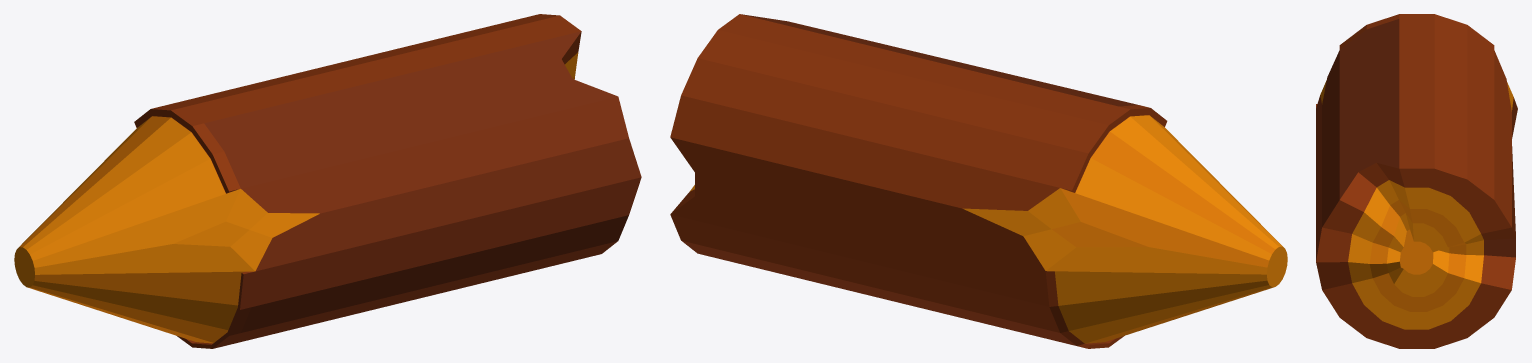
Rendered from Broken log_4.fbx.
The picture shows the model from 3 angles, left to right: view 1: azimuth 30°, elevation 25°; view 2: azimuth 150°, elevation 25°; view 3: azimuth 270°, elevation 25°; orthographic projection. The views are drawn at different scales.
Visible parts, largest first — view 1: Circle.017; view 2: Circle.017; view 3: Circle.017.
Part boxes in pixels (<box>): Circle.017: <box>14,14,641,348</box>; Circle.017: <box>670,14,1287,348</box>; Circle.017: <box>1316,14,1517,348</box>.
Bounding box in the file's own units: 66.08 × 25.19 × 25.57.
